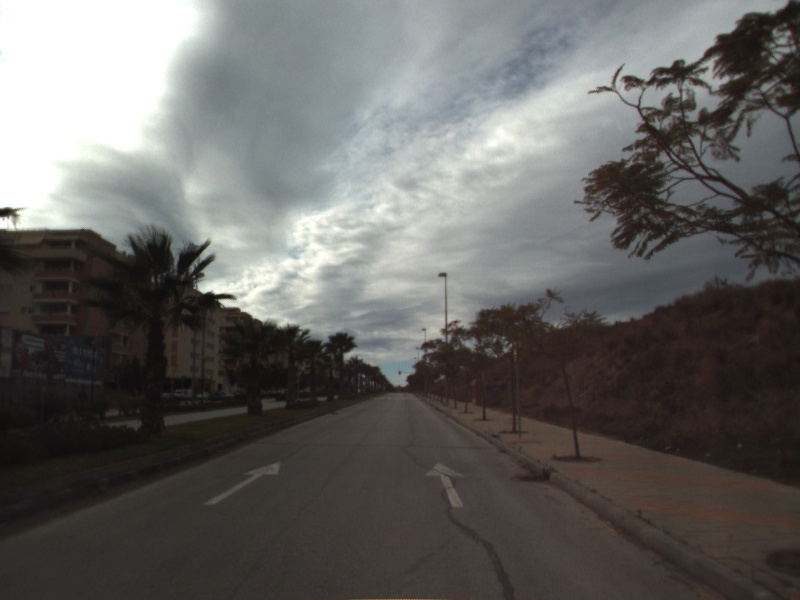STRAIGHT: (201, 459, 283, 507), (423, 459, 467, 509)
